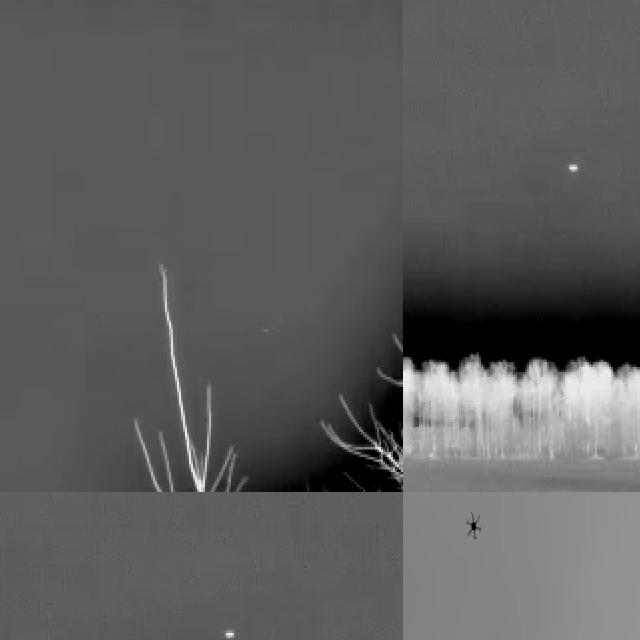0: (247, 320, 277, 350)
1: (555, 153, 585, 183), (214, 623, 240, 640)
drone: (461, 511, 483, 544)
